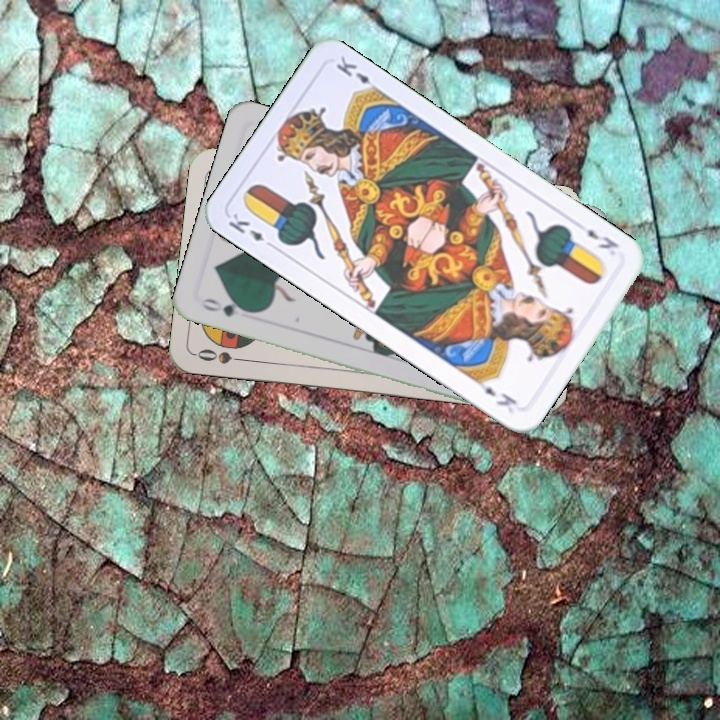EK: (224, 209, 278, 252), (583, 225, 622, 252)
GO: (198, 294, 256, 320)
SO: (193, 345, 252, 367)
